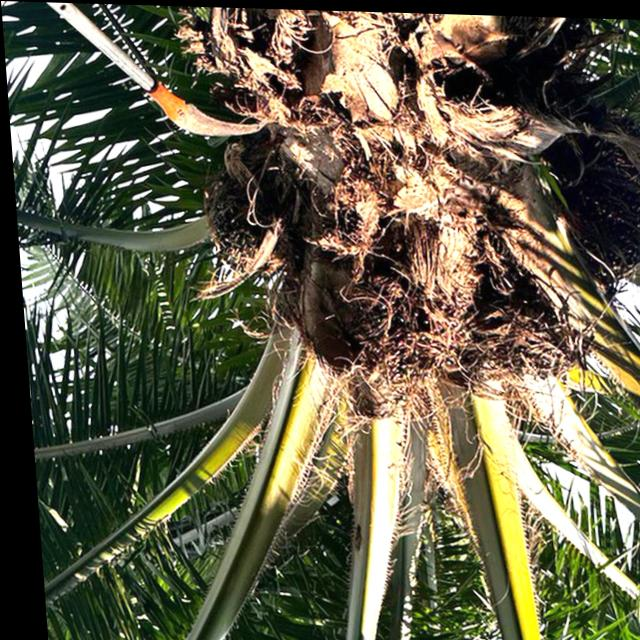ripe: (189, 161, 271, 270)
